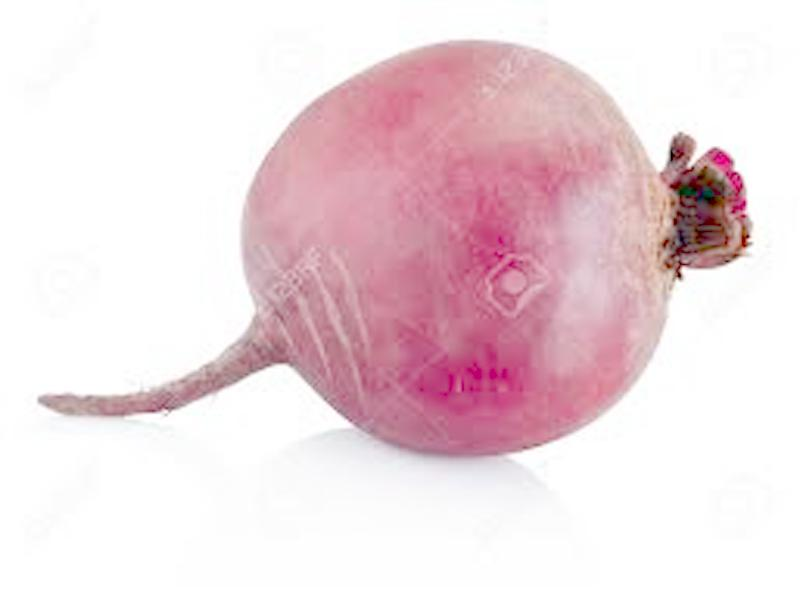Beet: (37, 43, 744, 456)
